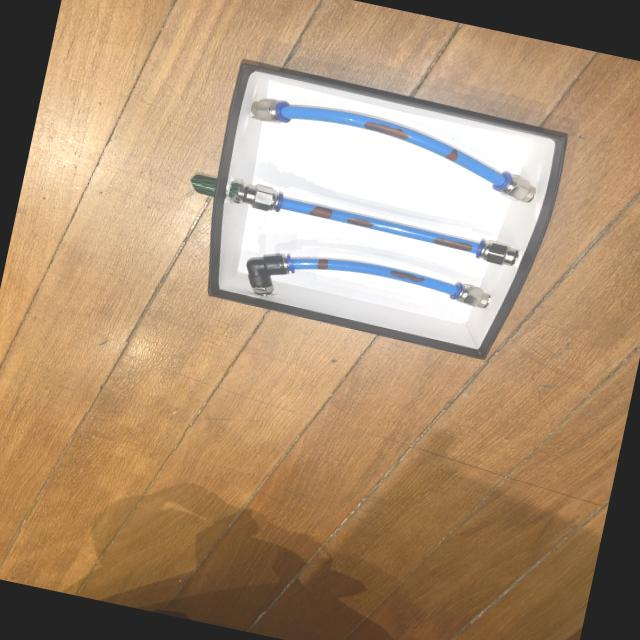hose_damage: (361, 119, 411, 142), (430, 234, 474, 253), (387, 268, 427, 284), (308, 203, 334, 221), (344, 215, 374, 229), (442, 146, 460, 162), (314, 256, 330, 271)
